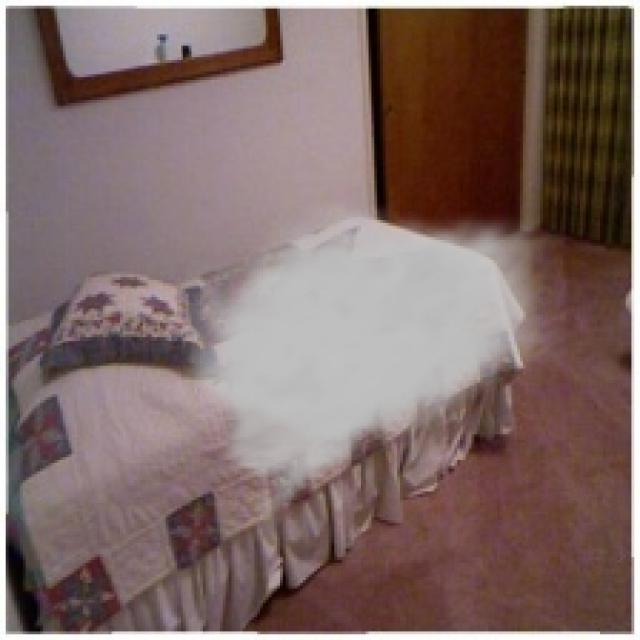smoke: (174, 200, 569, 546)
